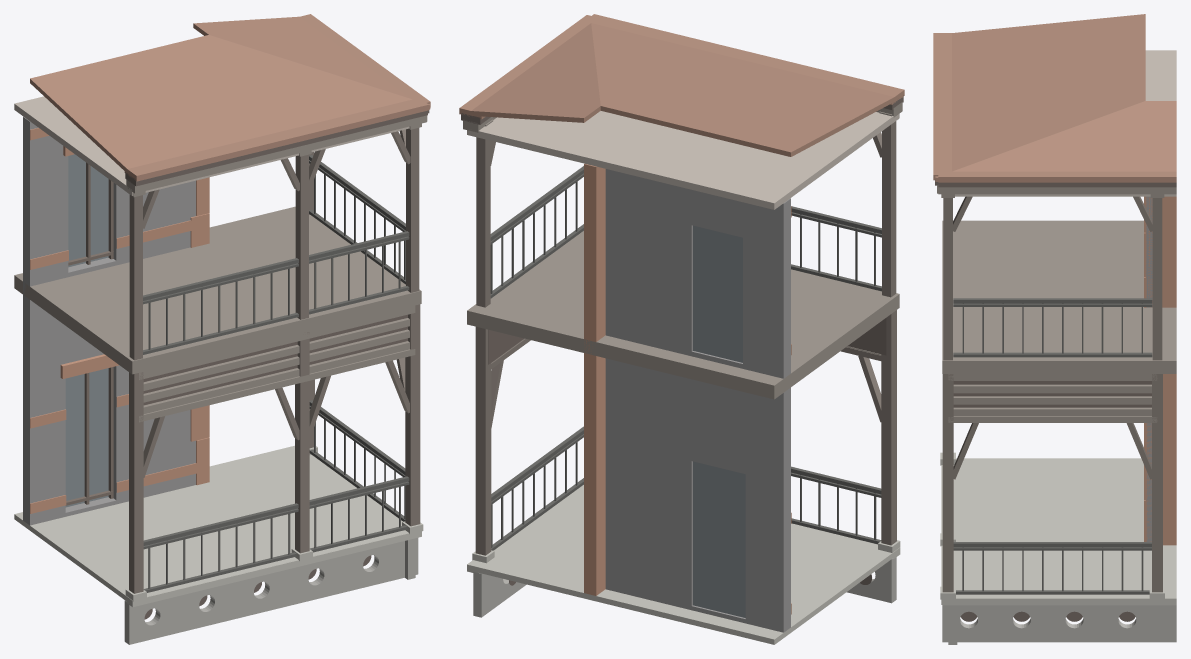
File: jingan-xiong-foxi-building-corner-veranda-lod.glb
The picture shows the model from 3 angles, left to right: view 1: azimuth 30°, elevation 25°; view 2: azimuth 150°, elevation 25°; view 3: azimuth 270°, elevation 25°; orthographic projection. The views are drawn at different scales.
Visible parts, largest first — view 1: 熊佛西楼东南转角双层木围廊; view 2: 熊佛西楼东南转角双层木围廊; view 3: 熊佛西楼东南转角双层木围廊.
Boxes of the visible parts, left/top/right/bottom form: 熊佛西楼东南转角双层木围廊: left=14, top=14, right=430, bottom=644; 熊佛西楼东南转角双层木围廊: left=459, top=14, right=904, bottom=644; 熊佛西楼东南转角双层木围廊: left=933, top=14, right=1176, bottom=644.
Bounding box in the file's own units: 5.48 × 8.72 × 3.92.
